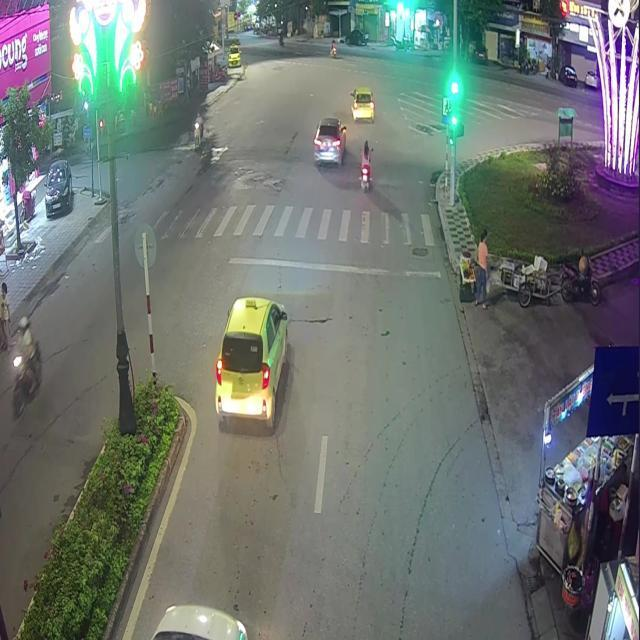car: (214, 295, 288, 428), (150, 604, 247, 638), (312, 117, 345, 164), (350, 88, 373, 119)
green_light: (450, 92, 457, 125)
motobike: (360, 163, 370, 191)
stop_line: (226, 256, 440, 277)
